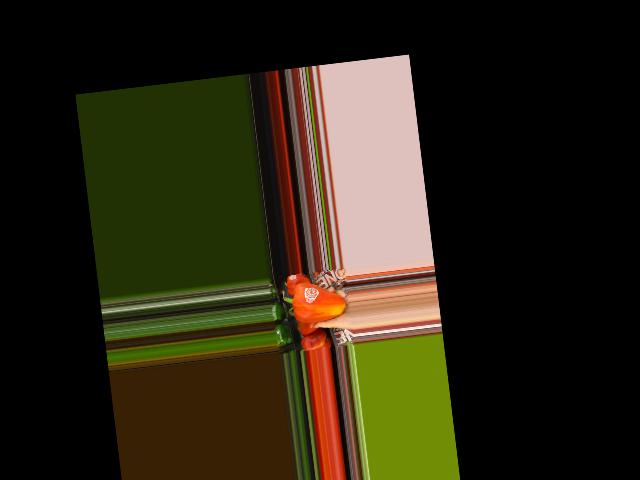bell_pepper: (280, 277, 347, 330)
